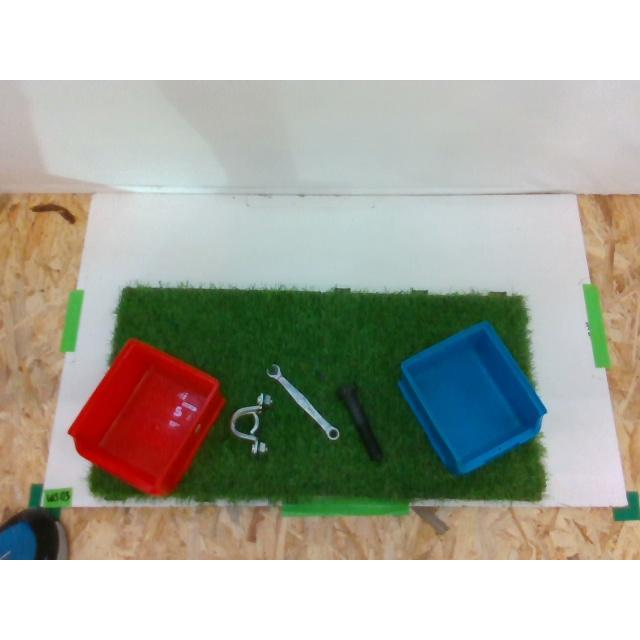Housing: (230, 394, 270, 454)
M20_100: (338, 386, 382, 462)
Wrench: (266, 364, 338, 441)
container_box_blue: (398, 322, 546, 474)
container_box_red: (68, 339, 224, 495)
